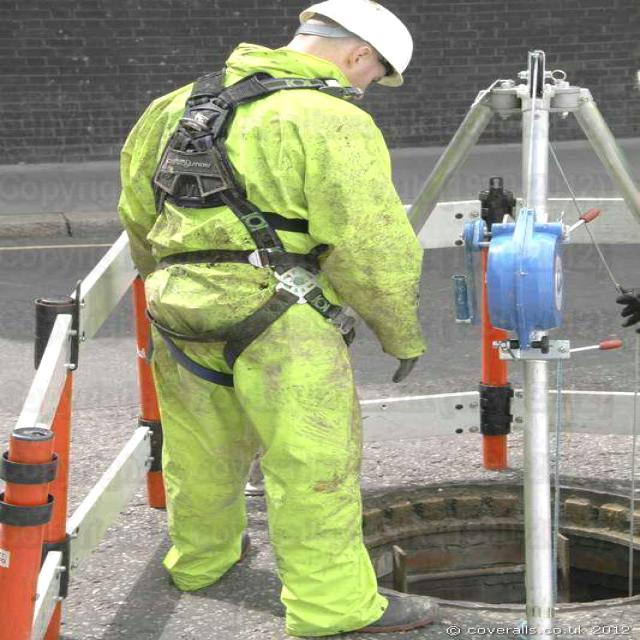head_helmet: (296, 0, 416, 90)
person: (115, 0, 439, 621)
shoes: (267, 588, 449, 636)
